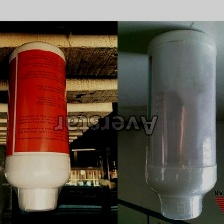insecticide: (142, 26, 220, 221), (2, 39, 72, 213)
